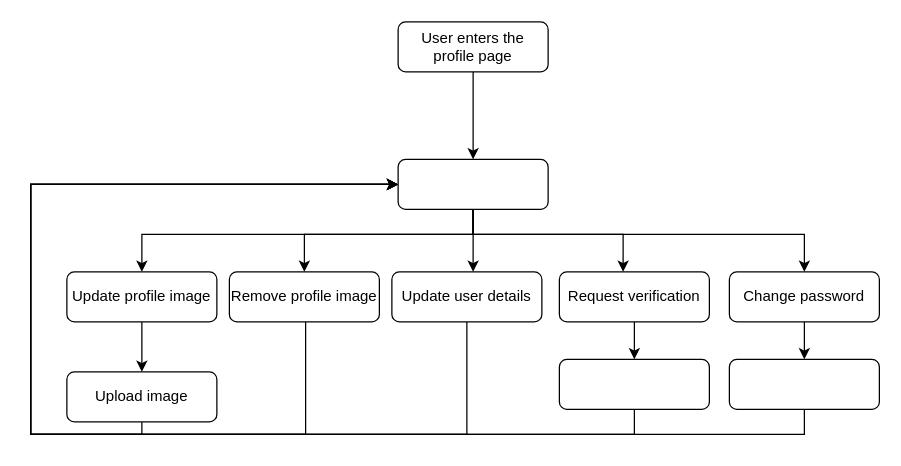
This 901x466 diagram has some shape labels left out. Here are the shapes that lost their labels. From the top down, the centre of each, then its label:
At point (472, 183): "Fetch user".
At point (633, 383): "Enter reason".
At point (803, 383): "Confirm password".
